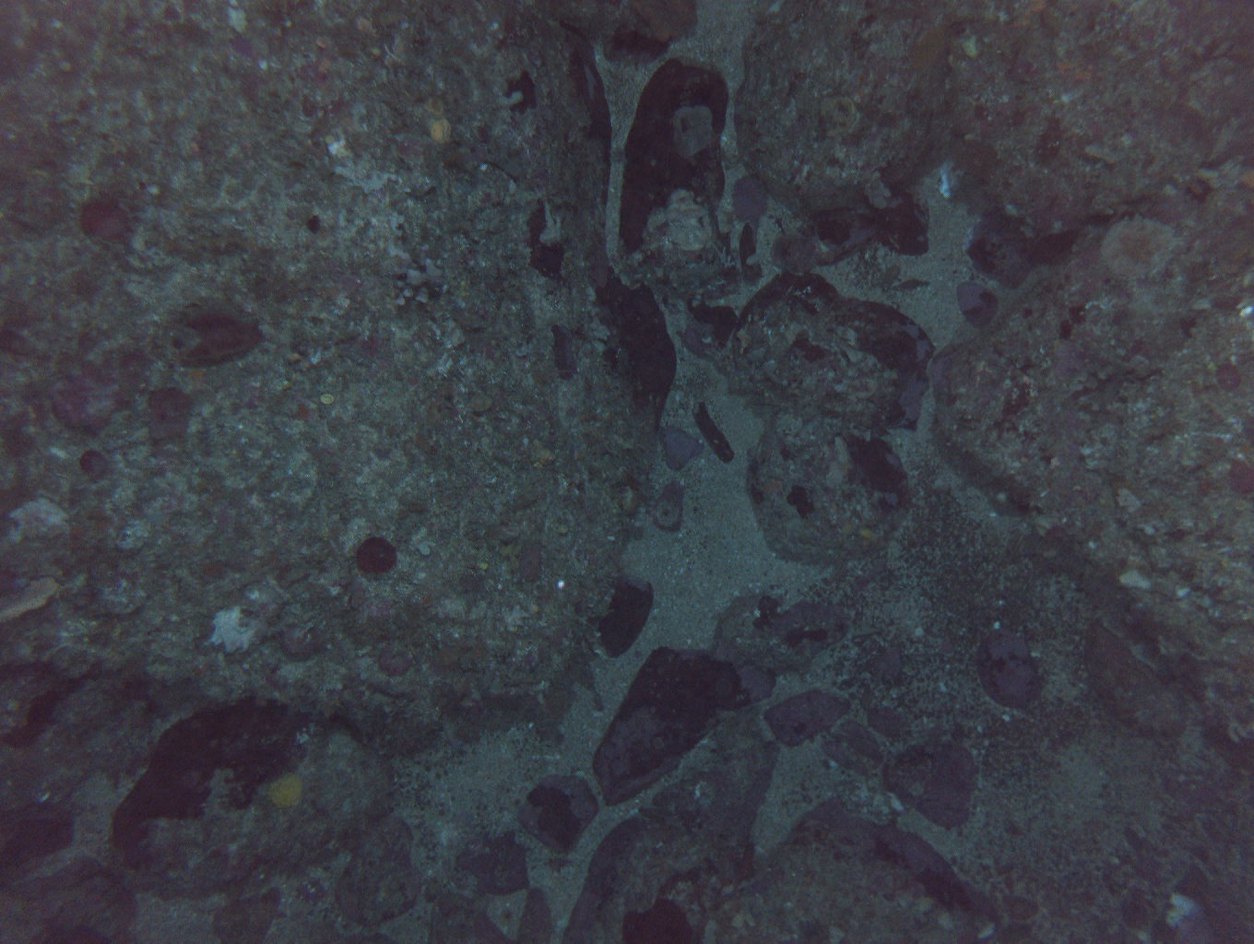Brachionichthyidae: (724, 841, 762, 891)
